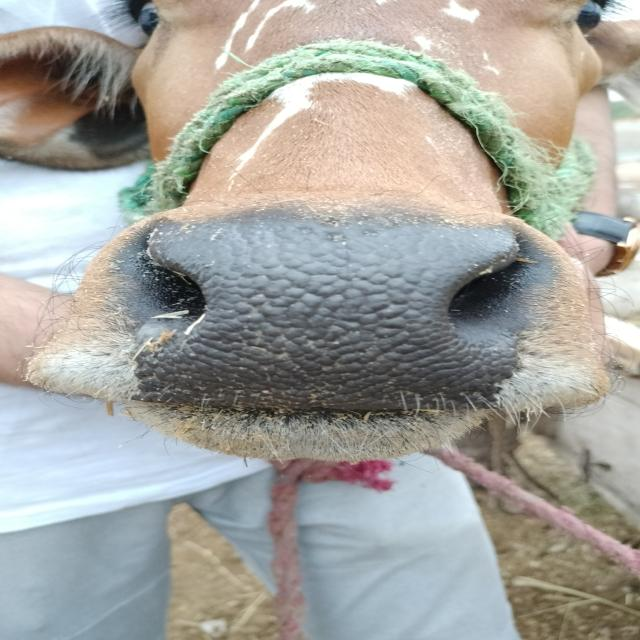muzzles: (127, 194, 550, 430)
